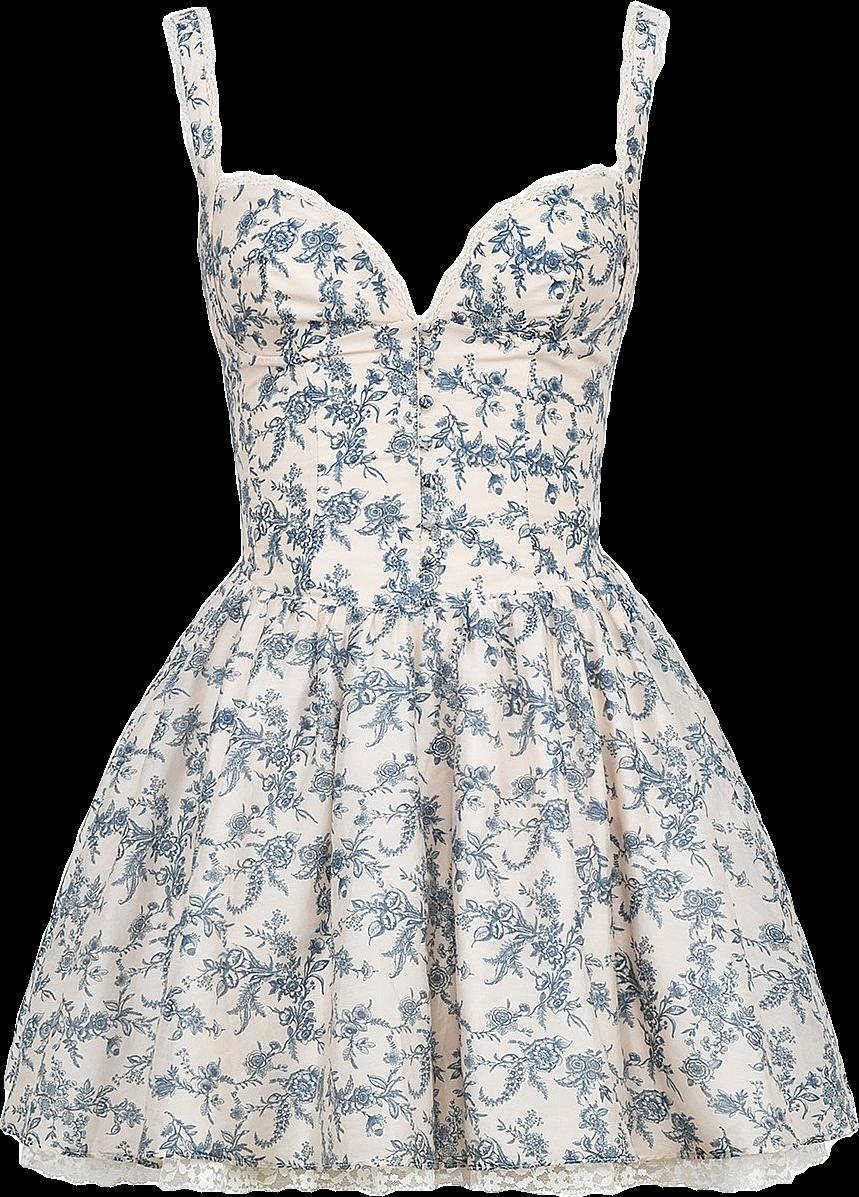Bodice: (162, 1, 669, 589)
Hemline: (0, 1119, 858, 1196)
Neckline: (199, 0, 639, 325)
Skirt: (0, 557, 858, 1196)
Waistline: (233, 553, 615, 602)
